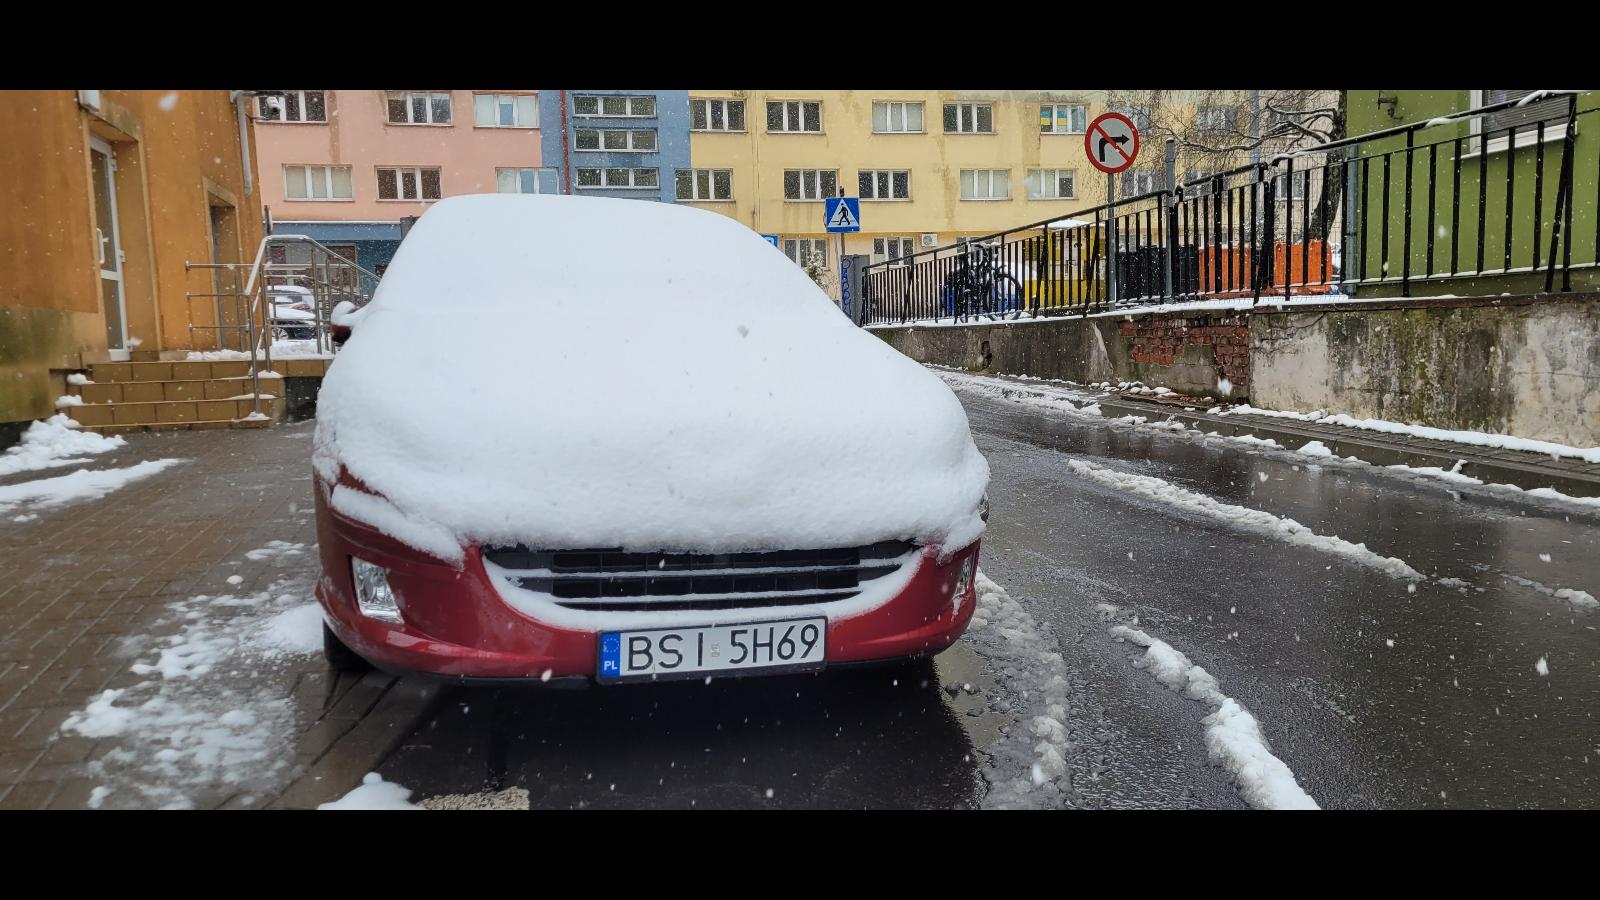plates: (596, 616, 828, 686)
